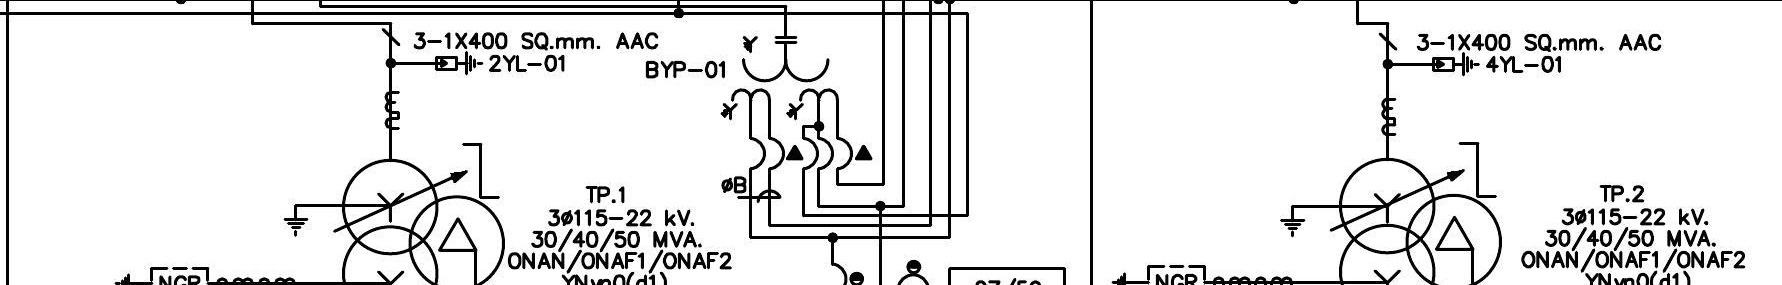115_cvt_3p: (719, 35, 840, 121)
115_la: (434, 50, 484, 76), (1432, 51, 1481, 77)
